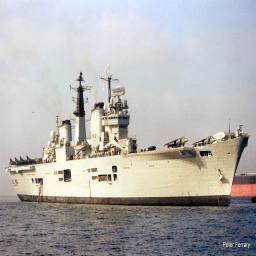Portanaves: (7, 62, 252, 216)
